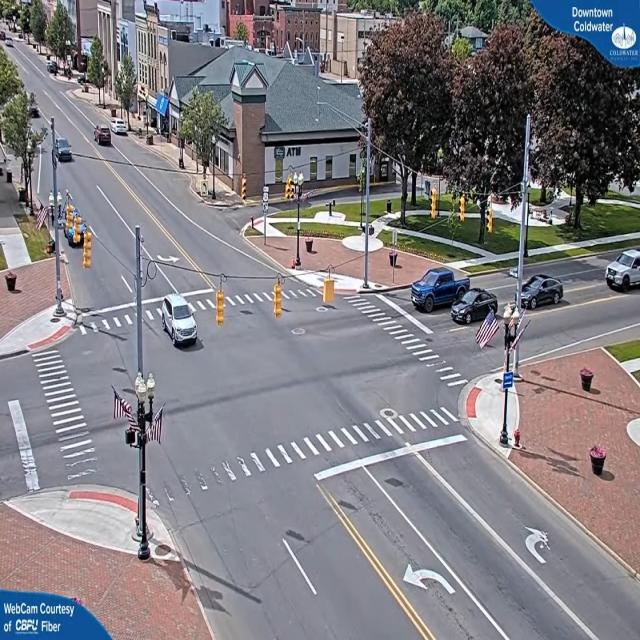car: (413, 267, 466, 314), (159, 296, 198, 346), (451, 286, 495, 324), (522, 273, 566, 309), (605, 253, 639, 293), (54, 134, 72, 160), (95, 126, 112, 147), (112, 120, 129, 138), (4, 39, 12, 47)
